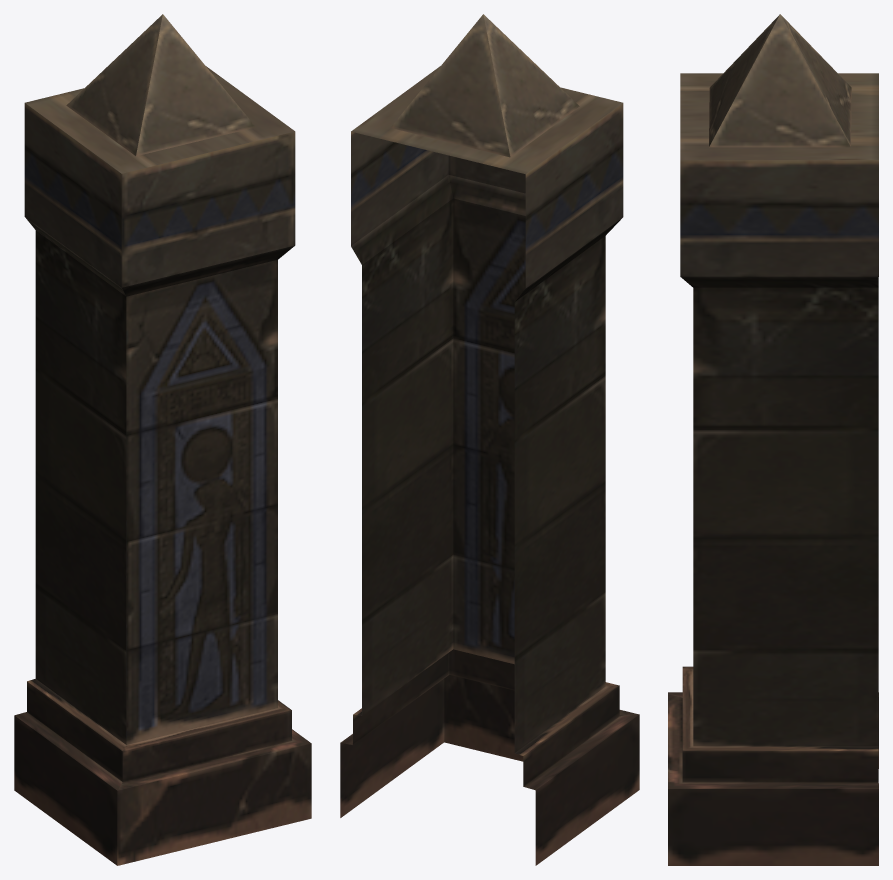
Rendered from common_yewai_shamodazhuzi.FBX.
3 views of the same model, side by side, from view 1: azimuth 30°, elevation 25°; view 2: azimuth 150°, elevation 25°; view 3: azimuth 270°, elevation 25° (orthographic). The views are drawn at different scales.
Parts seen in each view (by area): view 1: common_yewai_shamodazhuzi; view 2: common_yewai_shamodazhuzi; view 3: common_yewai_shamodazhuzi.
Boxes of the visible parts, x1,y1,x2,y2 form: common_yewai_shamodazhuzi: (14, 14, 311, 865); common_yewai_shamodazhuzi: (340, 14, 639, 865); common_yewai_shamodazhuzi: (668, 14, 878, 865).
Size of the model in its own units: 3.1 by 2.85 by 11.99.
